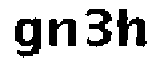3: (82, 5, 114, 51)
g: (11, 14, 41, 60)
h: (116, 6, 153, 52)
n: (46, 18, 77, 50)
